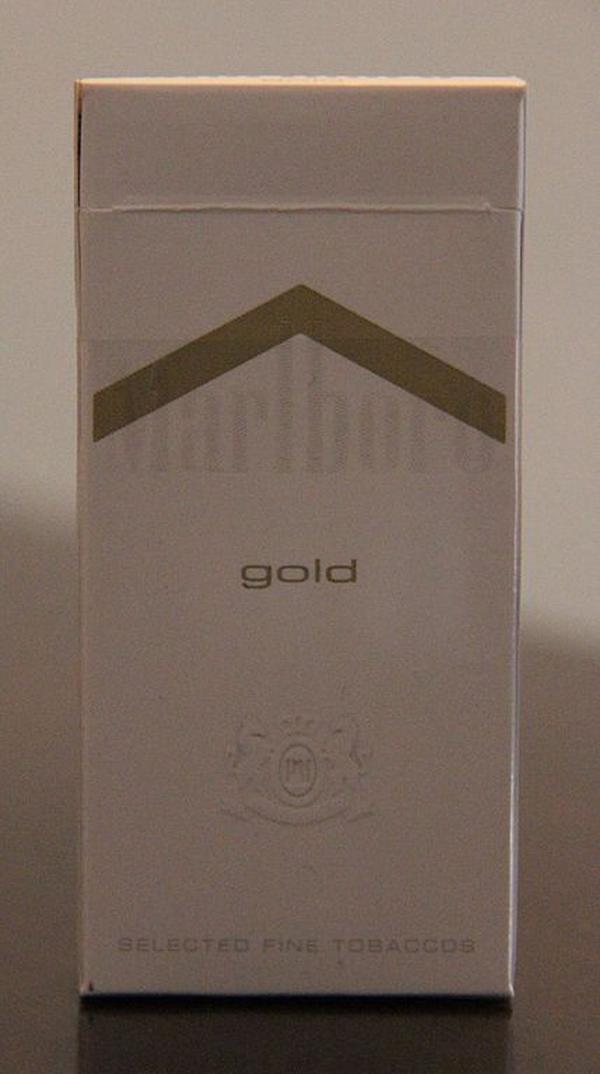marlboro_gold: (76, 93, 516, 993)
